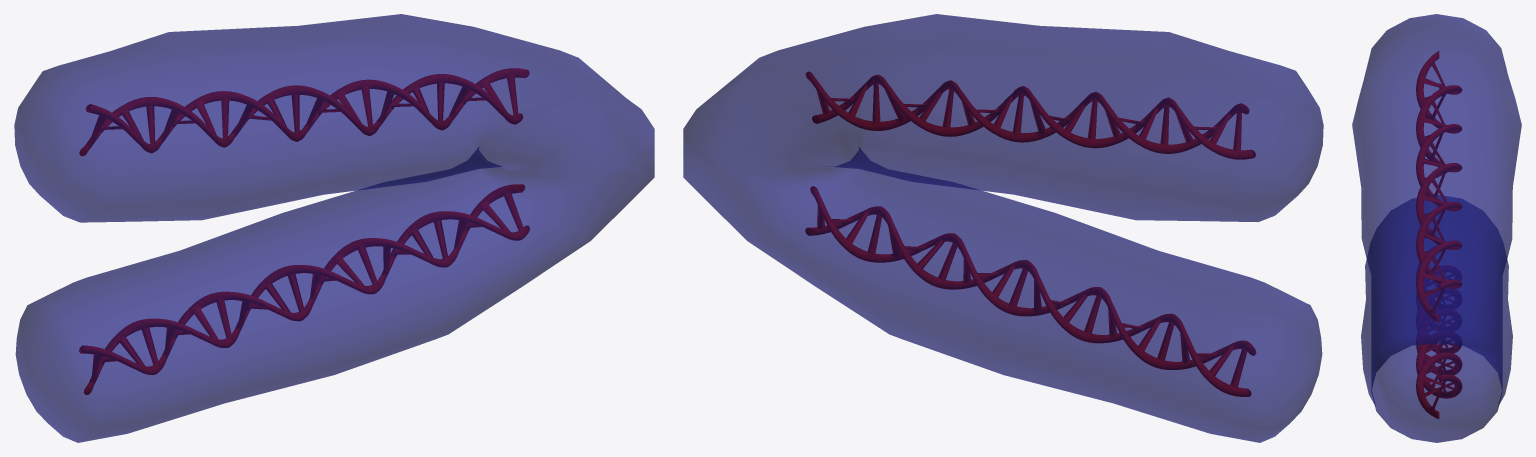
File: Chromosome.FBX
3 views of the same model, side by side, from view 1: azimuth 30°, elevation 25°; view 2: azimuth 150°, elevation 25°; view 3: azimuth 270°, elevation 25° (orthographic). The views are drawn at different scales.
Visible parts, largest first — view 1: Chromosome_Chromatid, DNA1_Chromosome, Chromosome_DNA2; view 2: Chromosome_Chromatid, DNA1_Chromosome, Chromosome_DNA2; view 3: Chromosome_Chromatid, Chromosome_DNA2, DNA1_Chromosome.
Boxes of the visible parts, bbox=[...] form: Chromosome_Chromatid: bbox=[14, 14, 654, 442]; DNA1_Chromosome: bbox=[79, 184, 529, 394]; Chromosome_DNA2: bbox=[79, 68, 529, 156]; Chromosome_Chromatid: bbox=[683, 14, 1323, 442]; DNA1_Chromosome: bbox=[805, 186, 1256, 396]; Chromosome_DNA2: bbox=[805, 71, 1255, 159]; Chromosome_Chromatid: bbox=[1352, 14, 1521, 442]; Chromosome_DNA2: bbox=[1416, 51, 1462, 322]; DNA1_Chromosome: bbox=[1416, 343, 1462, 418].
Size of the model in its own units: 7.22 by 4.25 by 2.17.
